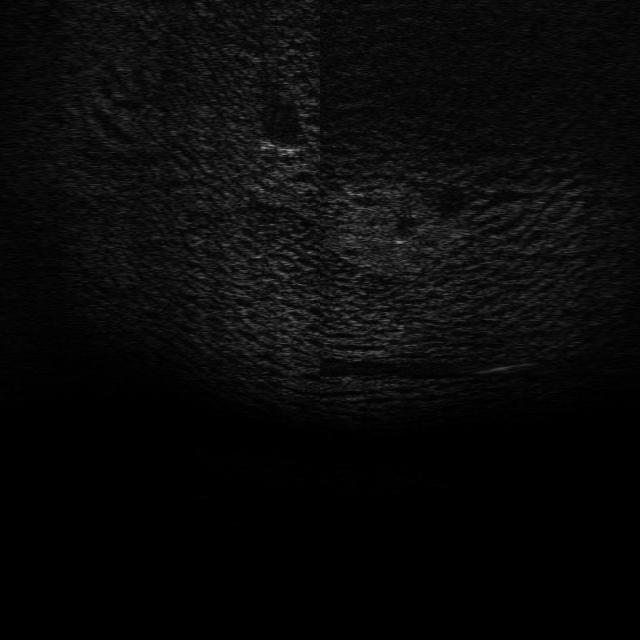plane: (258, 134, 308, 158)
